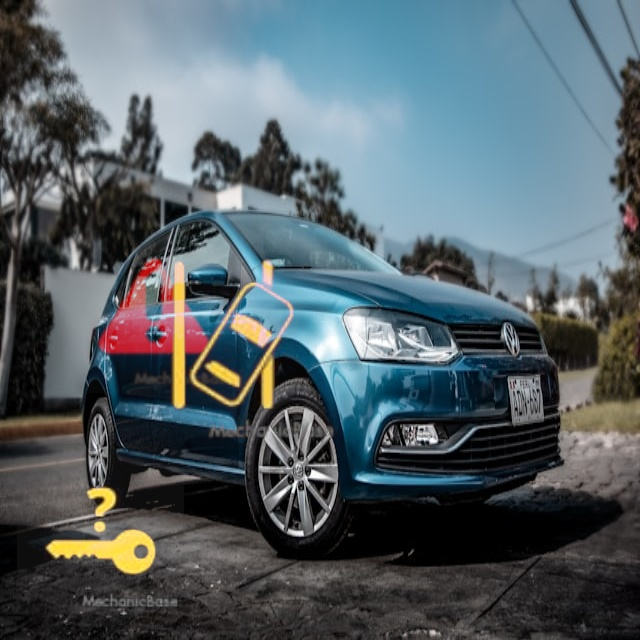symbol: (124, 230, 342, 448), (67, 220, 240, 393), (17, 448, 184, 615)
